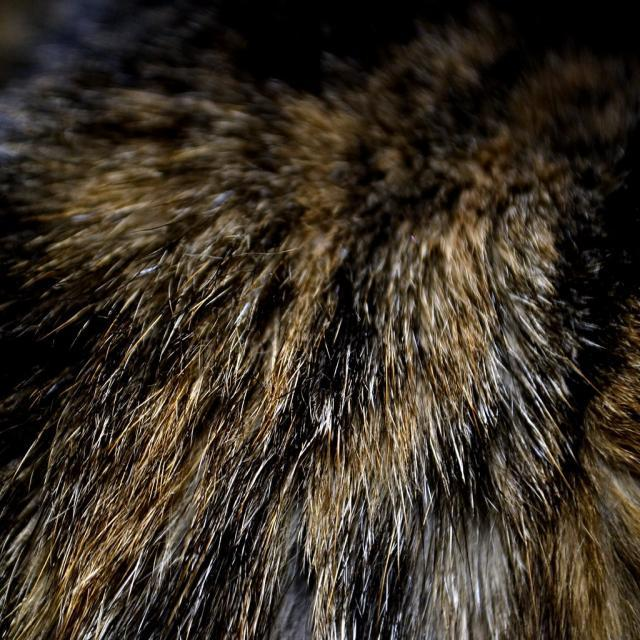Healthy skin: (414, 131, 606, 493), (49, 399, 382, 600), (116, 126, 310, 357)
